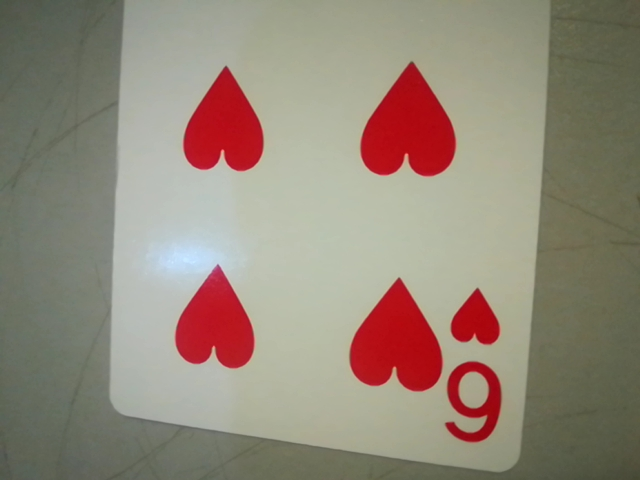hx 6: (435, 276, 514, 452)
